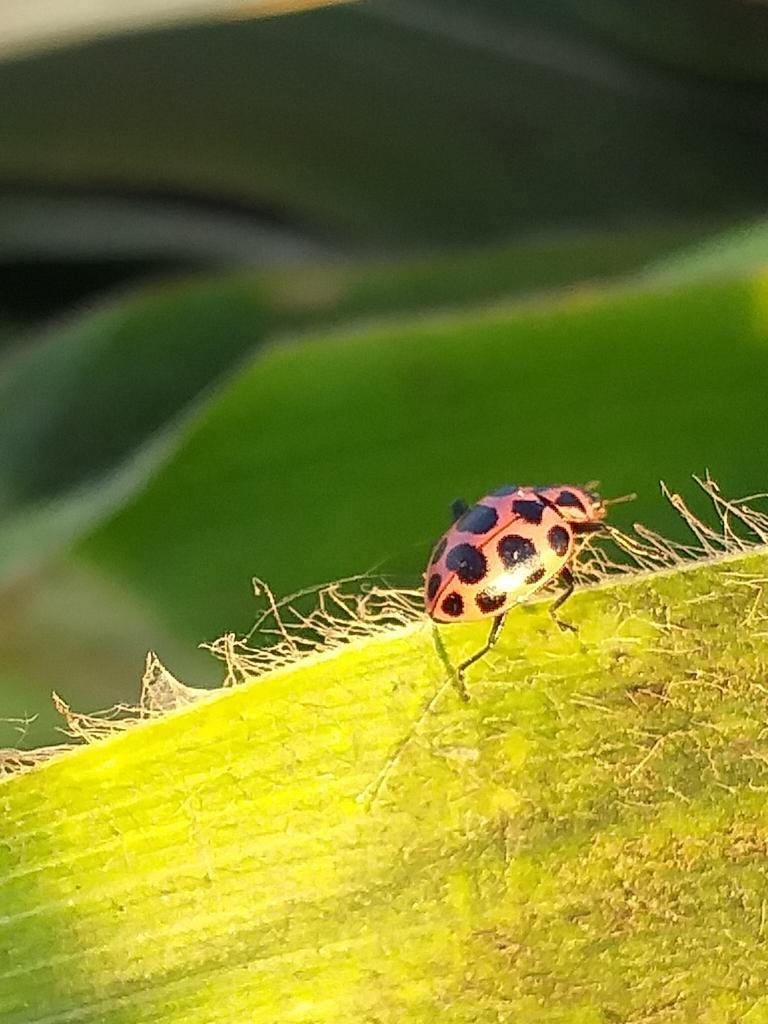ladybug: (424, 474, 646, 709)
